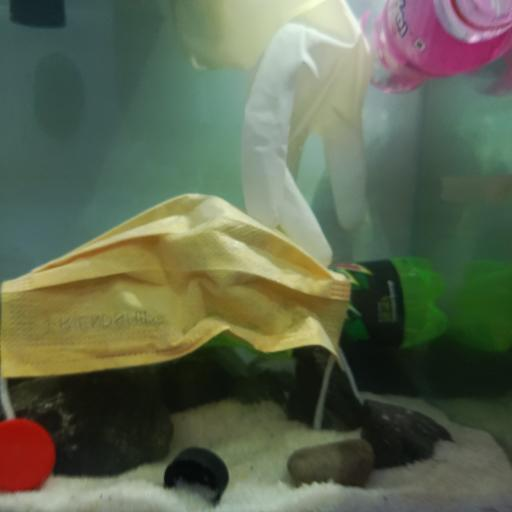bottle_cap: (164, 443, 228, 507), (1, 419, 54, 492), (10, 0, 68, 29)
glove: (174, 0, 374, 265)
mask: (9, 191, 357, 401)
plastic_bottle: (194, 257, 452, 350), (359, 0, 512, 96)
